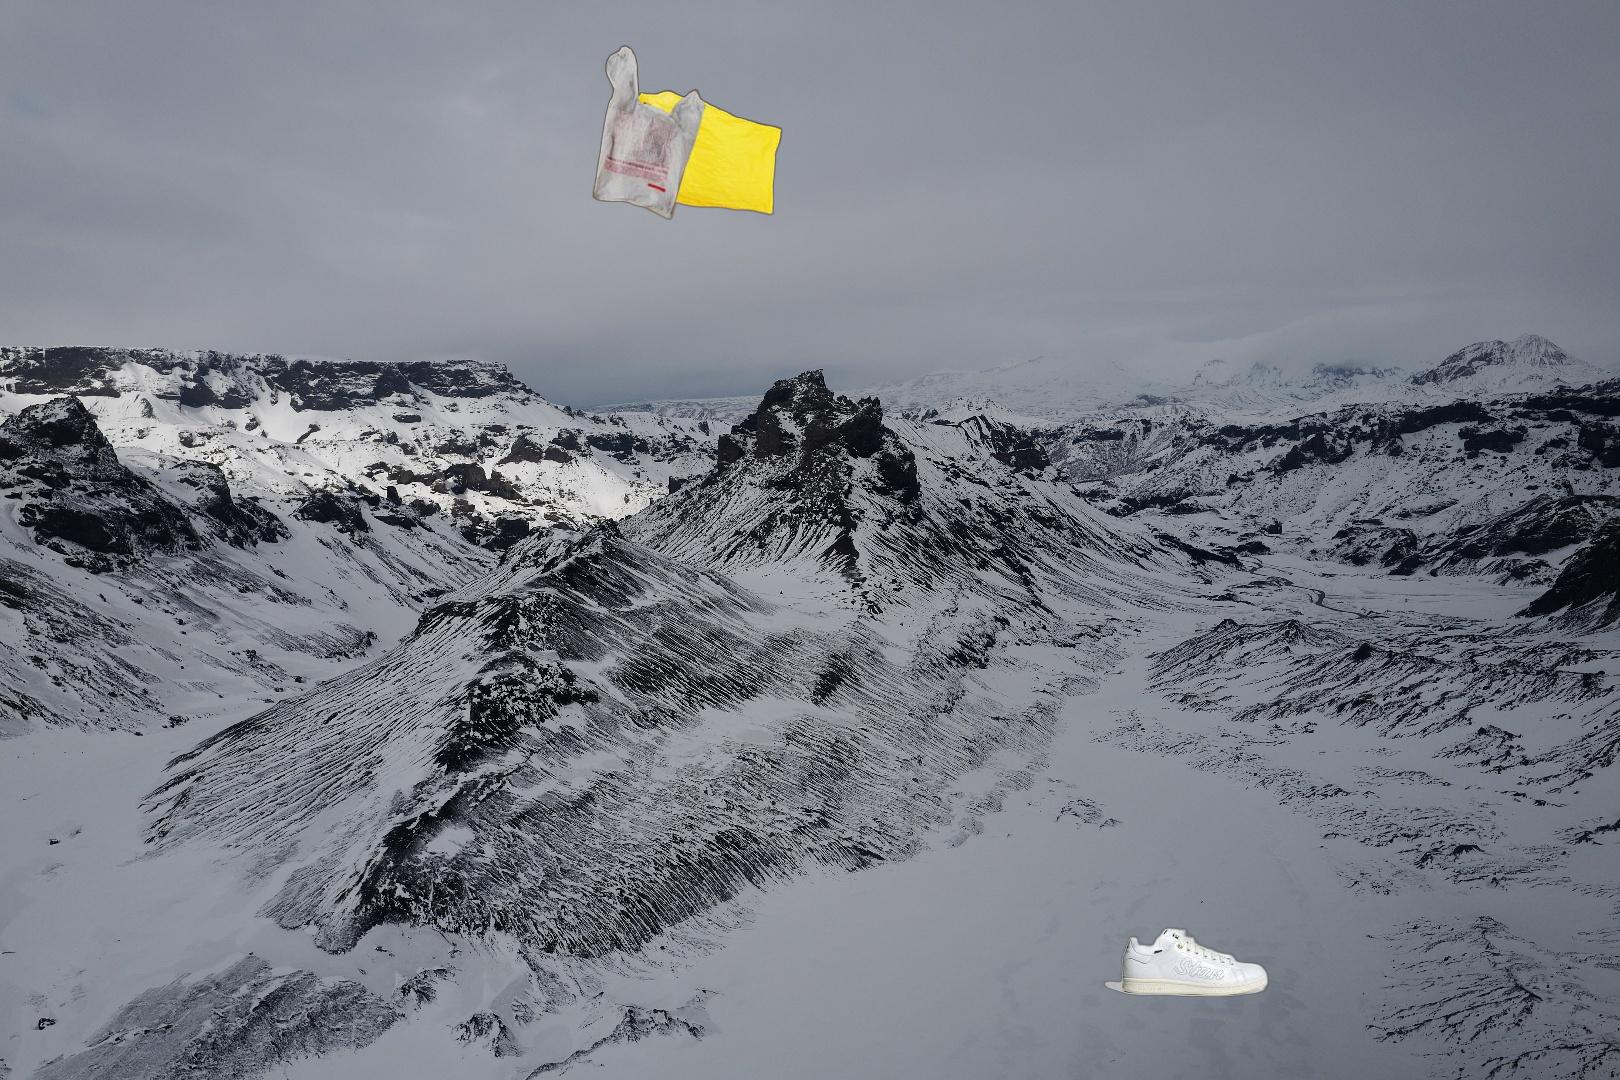plastic-bag: (589, 43, 785, 222)
shoes: (1100, 925, 1270, 1000)
